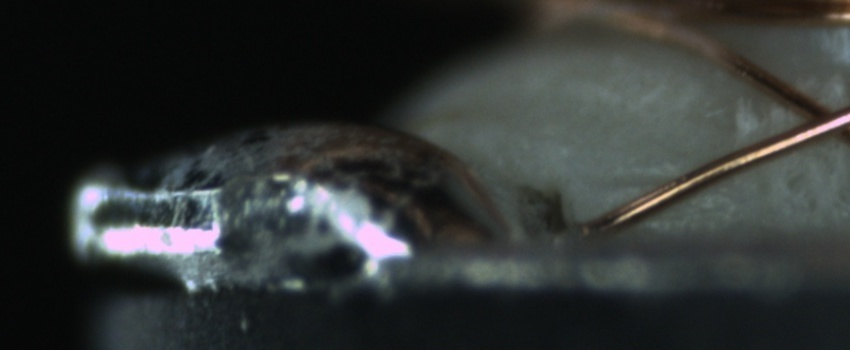CL: (771, 80, 850, 150)
DL: (595, 150, 688, 207)
